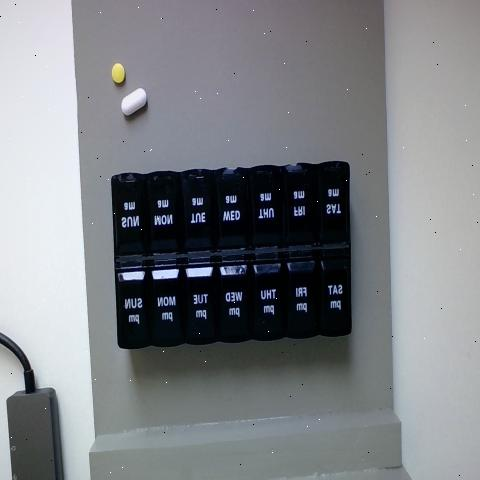FRI-am: (282, 162, 312, 246)
FRI-pm: (287, 255, 319, 336)
MON-am: (149, 174, 182, 253)
MON-pm: (151, 265, 183, 342)
Pill: (118, 79, 152, 127), (104, 56, 130, 92)
PillBox: (102, 143, 370, 371)
SAT-am: (316, 158, 350, 243)
SAT-pm: (318, 246, 350, 338)
SUN-am: (113, 174, 147, 260)
SUN-pm: (117, 269, 148, 345)
THU-am: (248, 163, 281, 249)
THU-pm: (255, 259, 282, 335)
TUE-am: (183, 170, 216, 249)
TUE-pm: (186, 264, 217, 342)
WED-am: (216, 167, 247, 250)
WED-pm: (220, 259, 249, 335)
